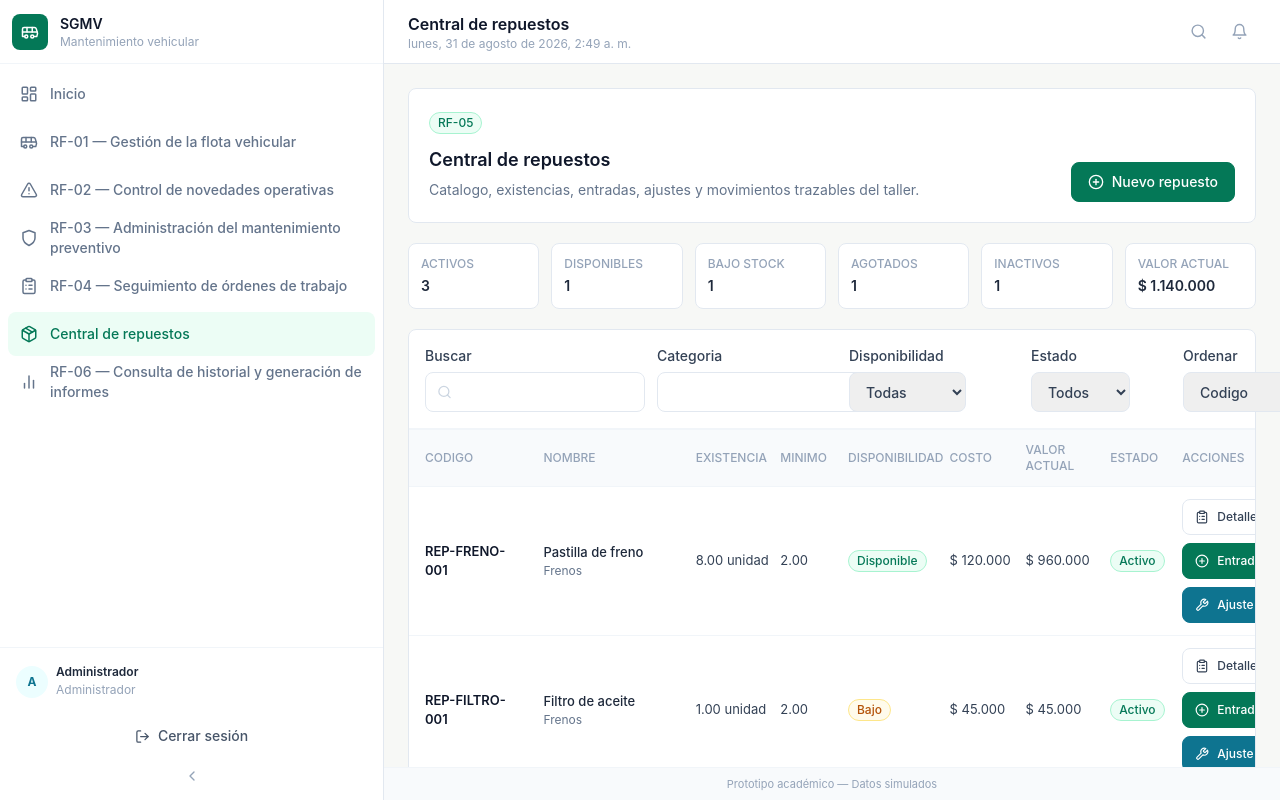
Scenario: RF-05 spare parts frontend › shows controlled duplicate-code errors during creation
Expected: the text "REP-FRENO-001" is shown, left=409, top=486, right=527, bottom=636
Click the button "Nuevo repuesto". click: [1153, 182]
box: left=1071, top=162, right=1235, bottom=202
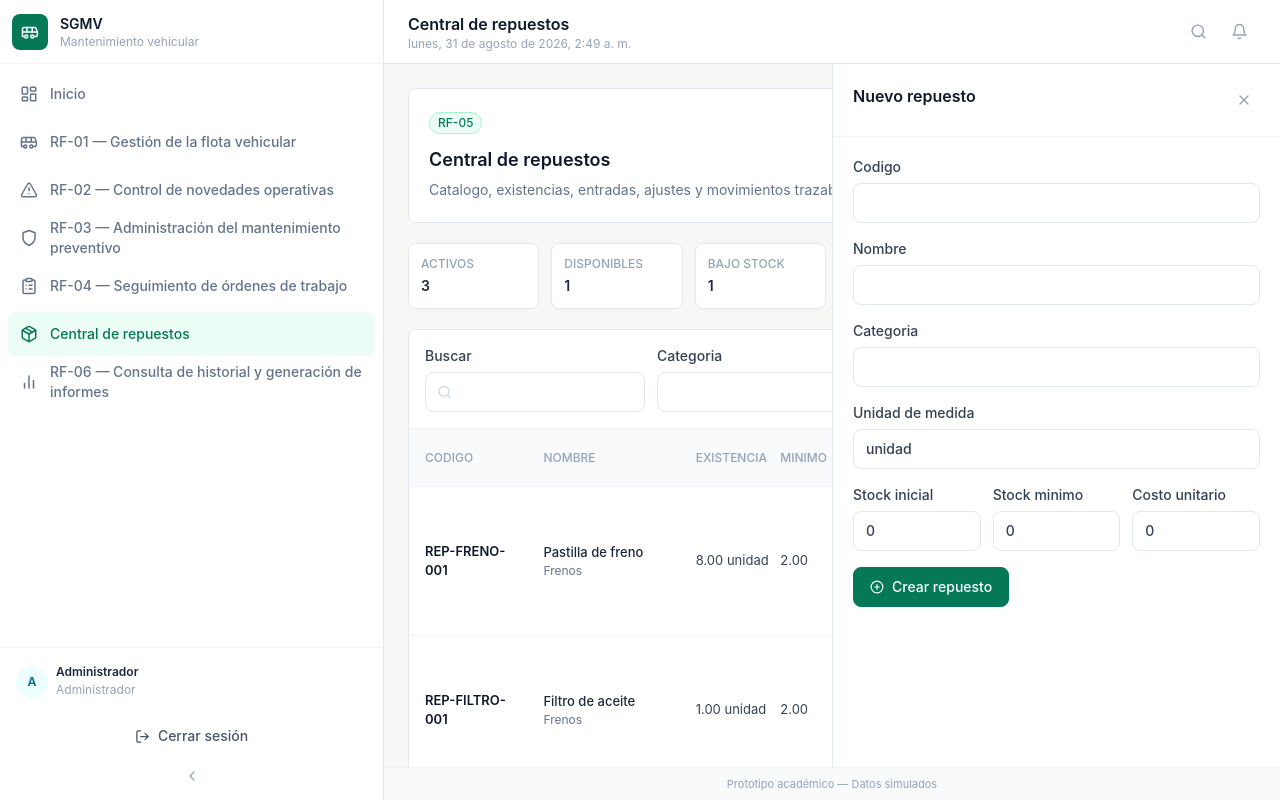
Type "rep-freno-001" into the field labelled "Codigo". click: [1056, 203]
box: left=853, top=183, right=1260, bottom=223
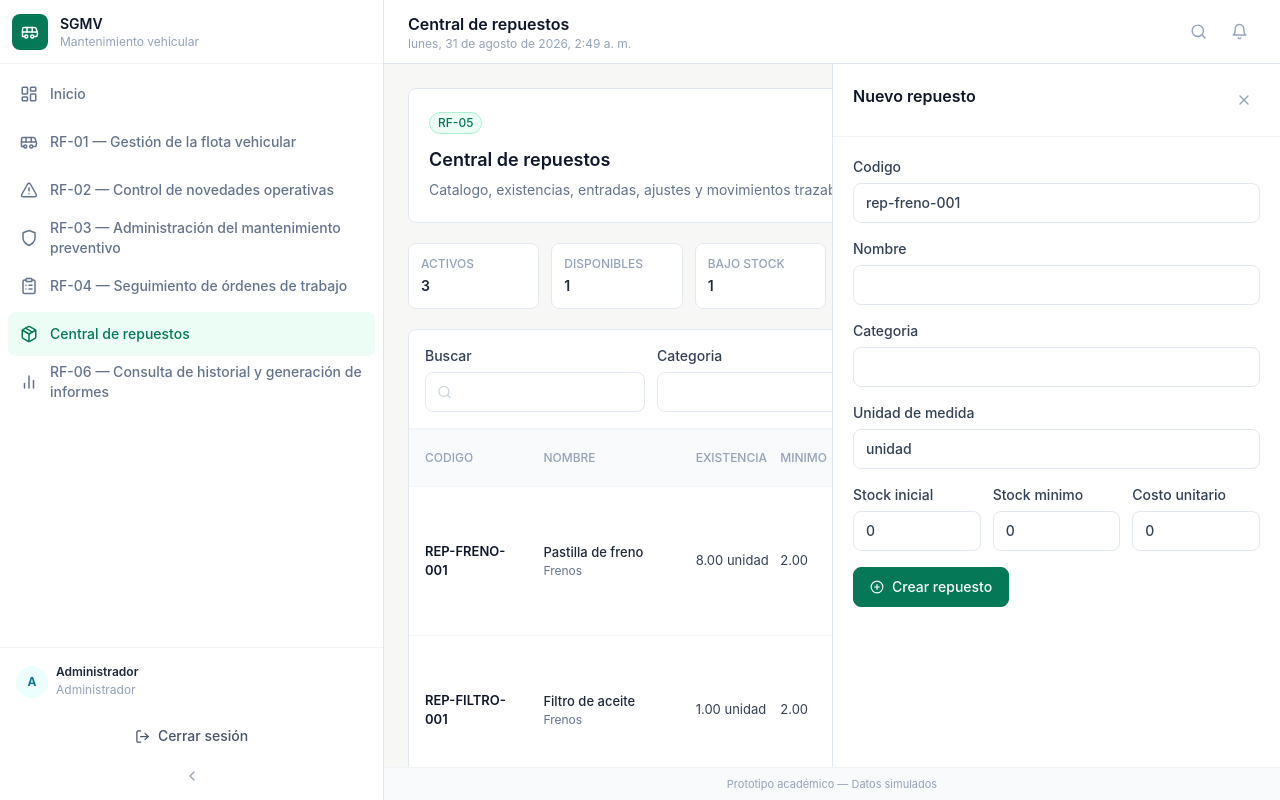
Type "Repuesto duplicado" into the field labelled "Nombre". click: [1056, 285]
box: left=853, top=265, right=1260, bottom=305
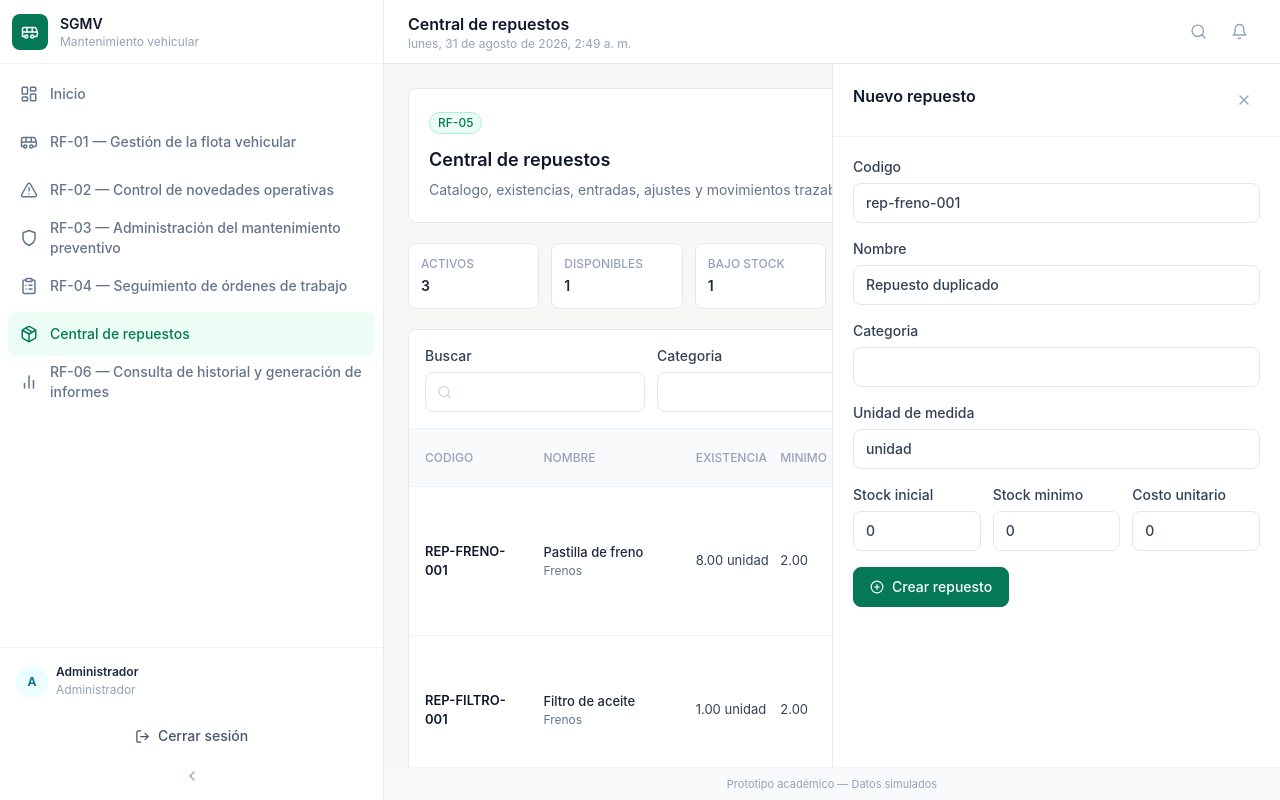
Click the button "Crear repuesto". click: [931, 587]
box: left=853, top=567, right=1009, bottom=607
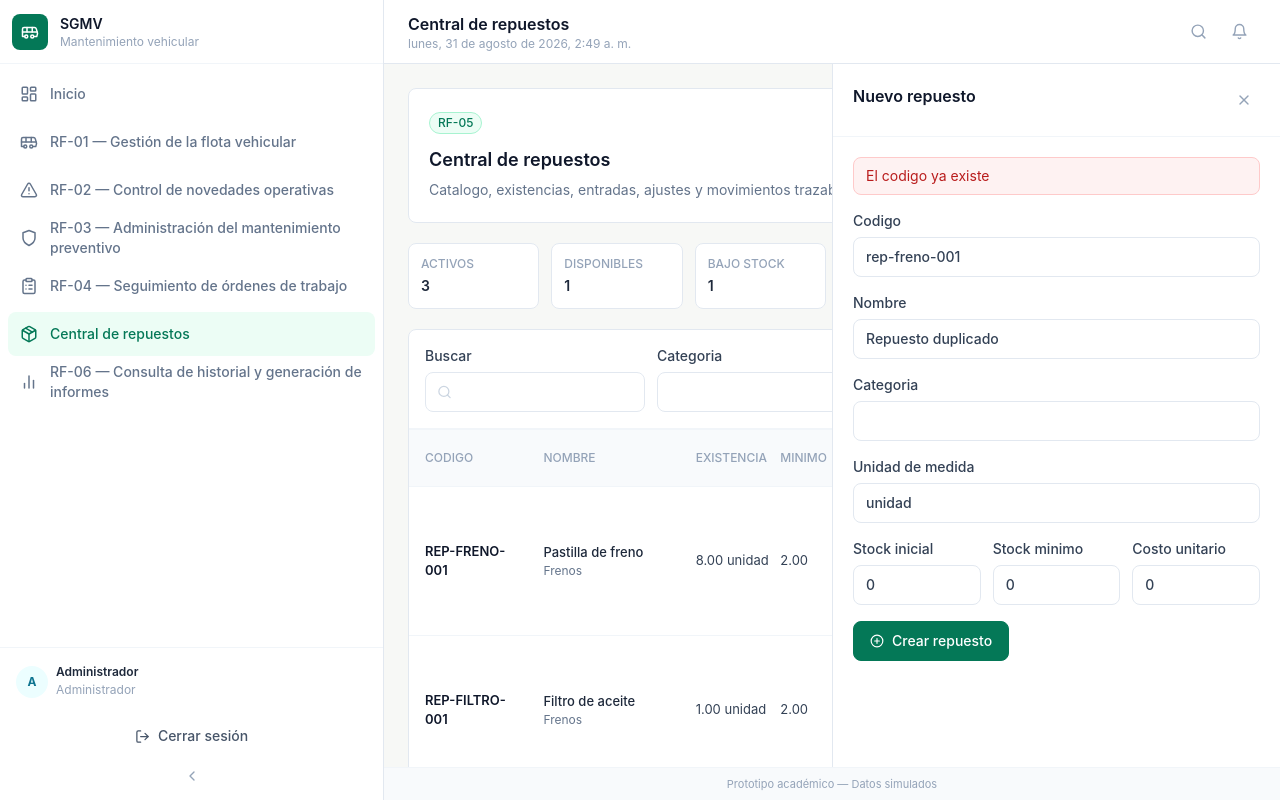
Expected: the text "El codigo ya existe" is shown, left=853, top=157, right=1260, bottom=195
